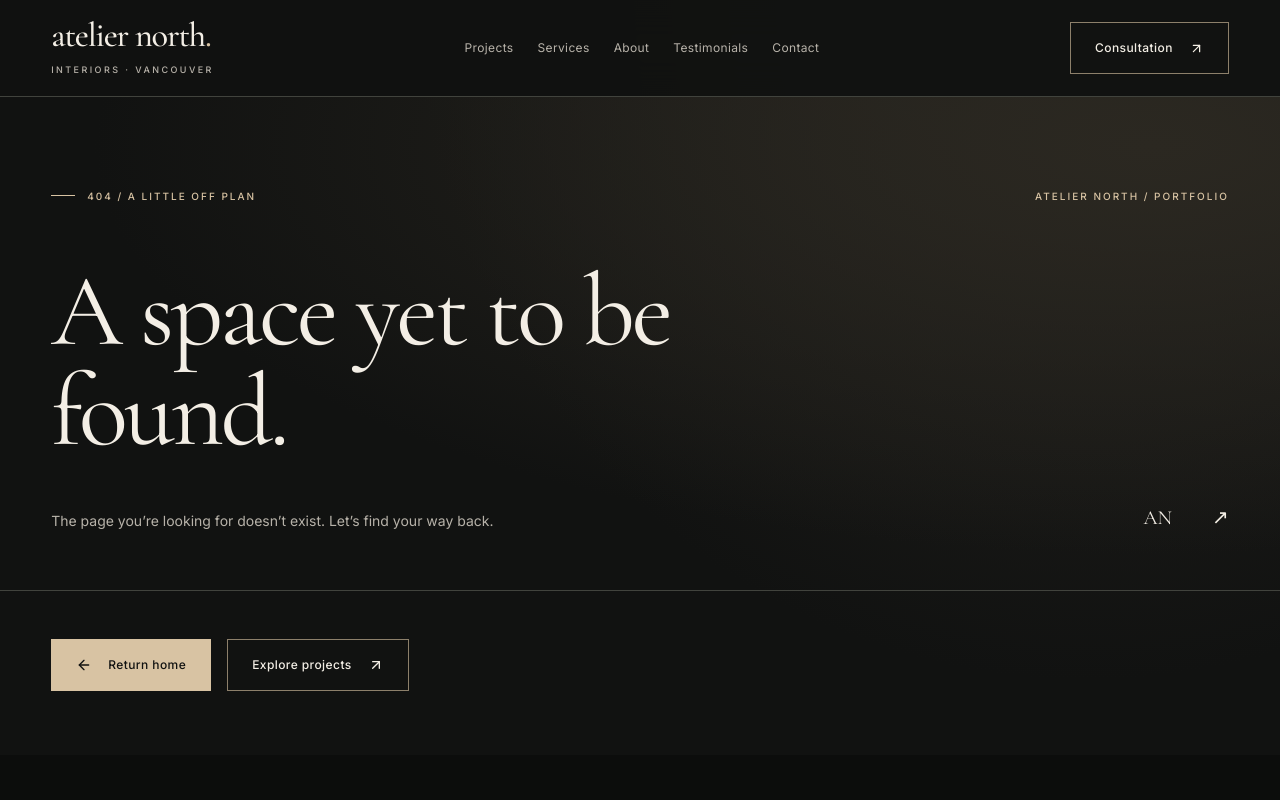
Scenario: application shell and routes › provides working 404 recovery
expect the heading "A space yet to be found." is shown: met, box [51,261,686,461]
expect the text "404 / A little off plan" is shown: met, box [87,190,256,202]
Click the link "Return home".
click(131, 665)  # box [51,639,211,691]
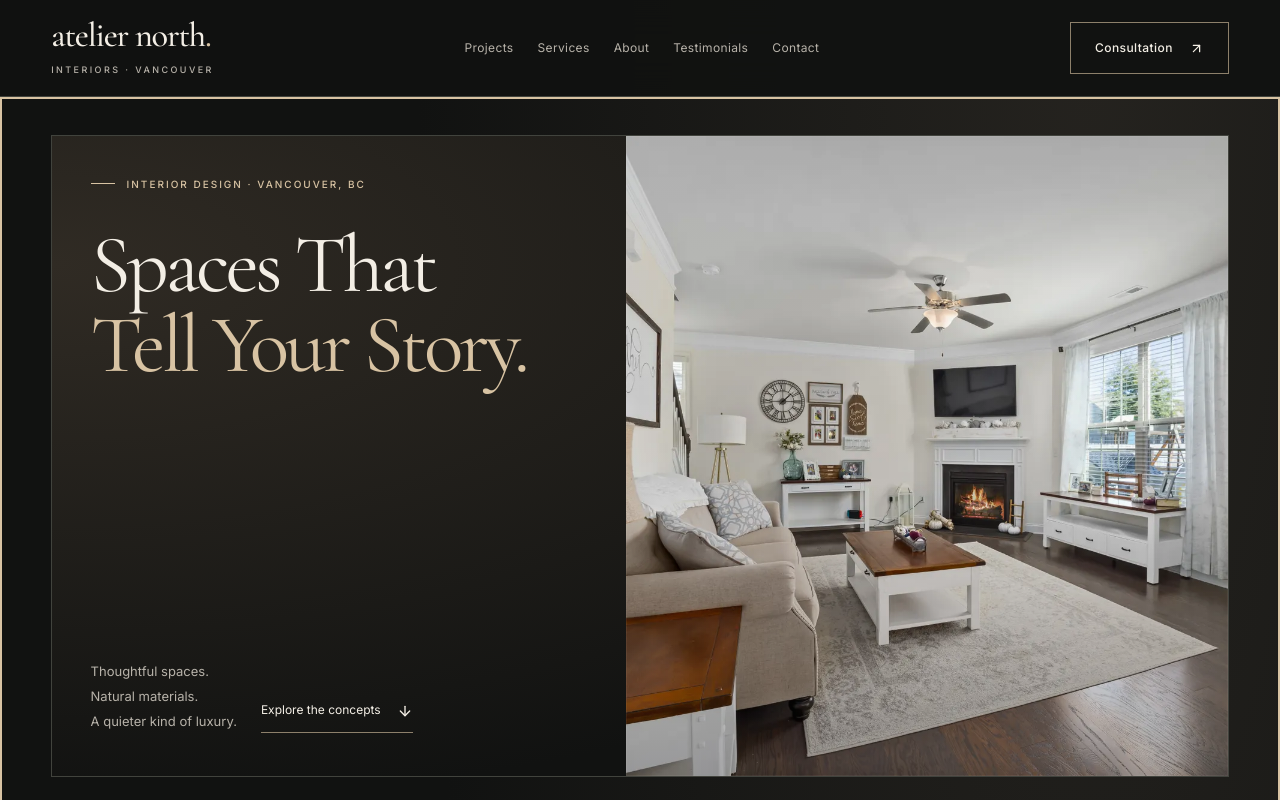
expect the heading "Spaces That Tell Your Story." is shown: met, box [91,225,526,385]
